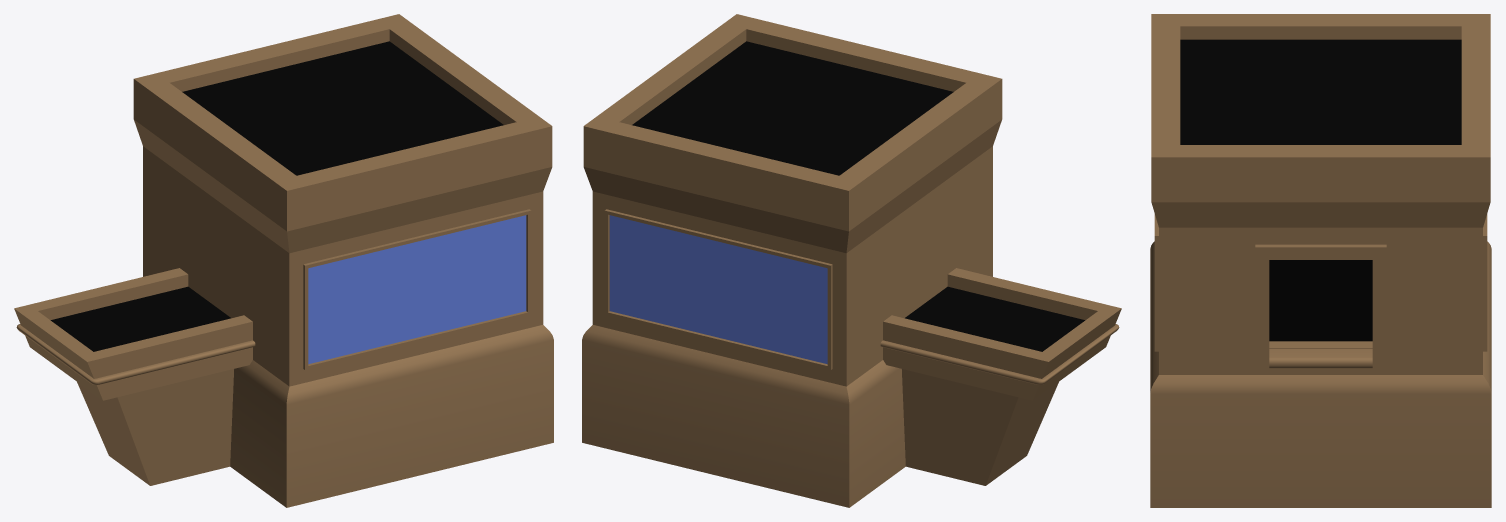
Rendered from Factory.fbx.
3 views of the same model, side by side, from view 1: azimuth 30°, elevation 25°; view 2: azimuth 150°, elevation 25°; view 3: azimuth 270°, elevation 25° (orthographic). The views are drawn at different scales.
Visible parts, largest first — view 1: Cube.001; view 2: Cube.001; view 3: Cube.001.
Part boxes in pixels (box(x1,y1,x2,y2)): Cube.001: box(14, 14, 553, 507); Cube.001: box(582, 14, 1121, 507); Cube.001: box(1150, 14, 1491, 507).
Bounding box in the file's own units: 6.99 × 4.77 × 4.21.
